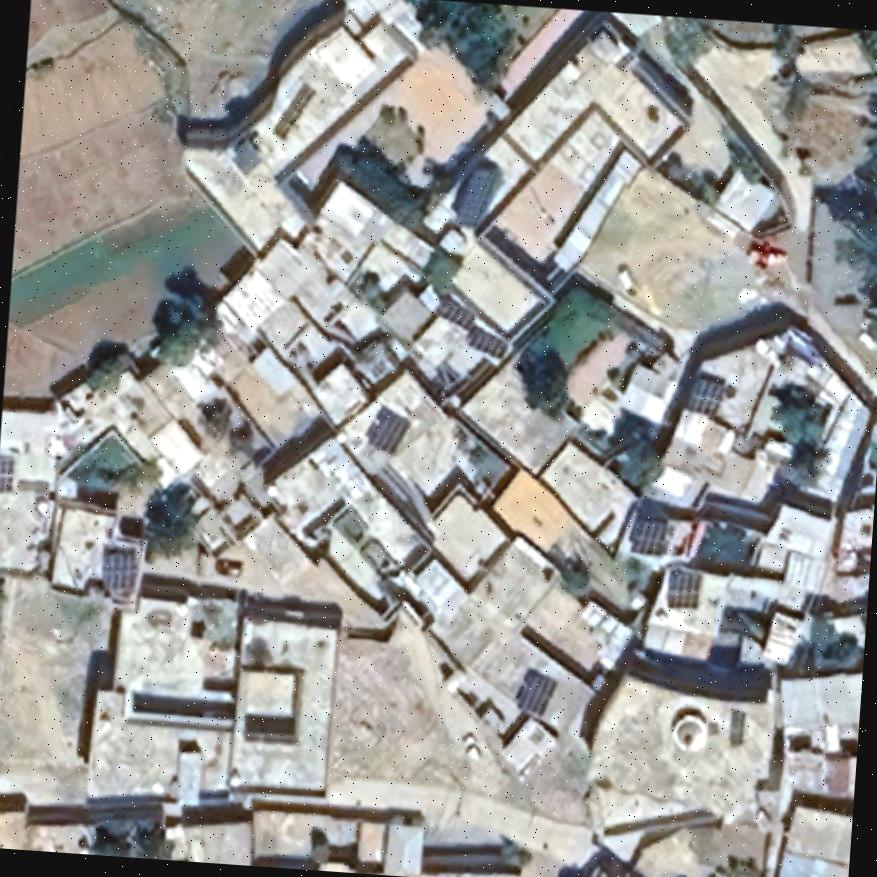Solarpanel: (264, 74, 321, 144), (448, 161, 498, 231), (359, 404, 412, 458), (511, 668, 558, 720), (624, 514, 669, 558), (433, 294, 476, 336), (98, 548, 136, 594), (684, 376, 724, 416), (662, 568, 700, 610), (464, 323, 508, 359), (722, 698, 750, 748), (0, 454, 14, 494)
